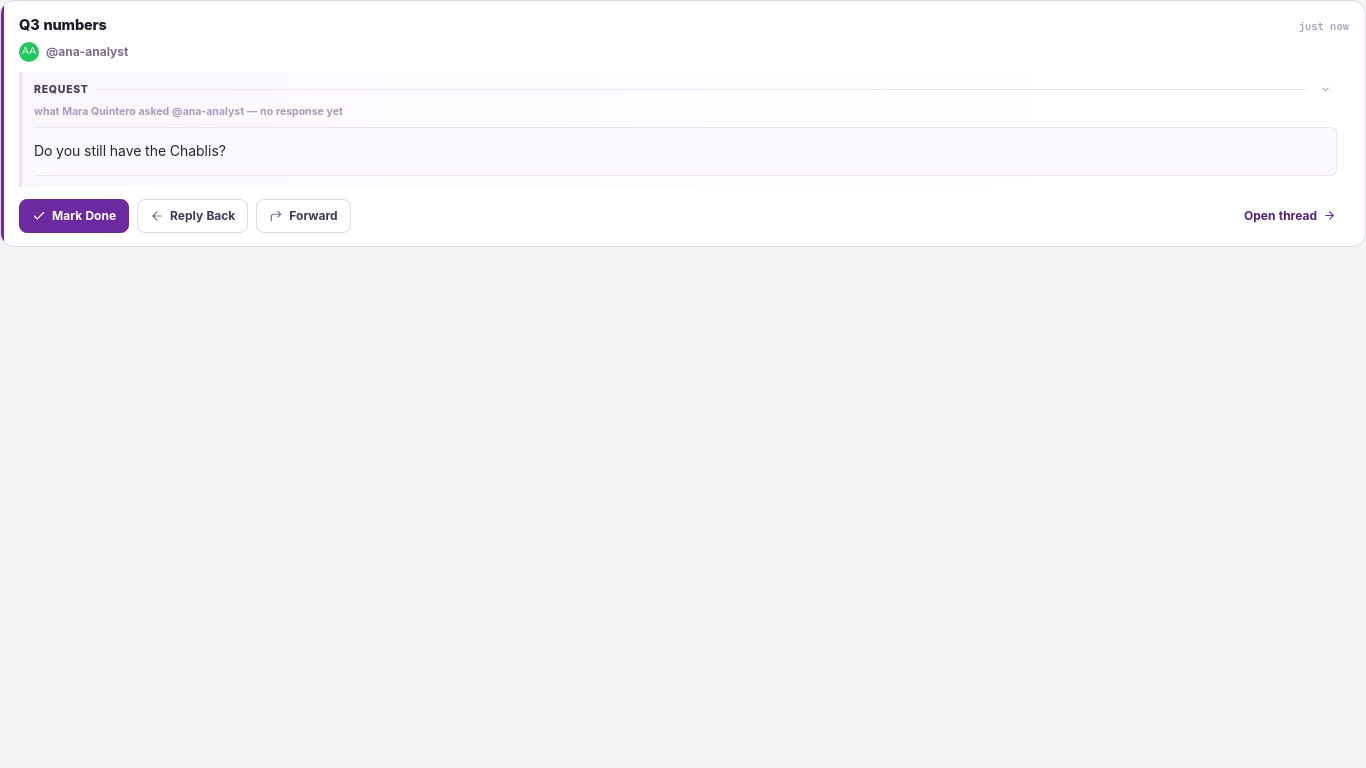
Scenario: an outside contact's words on the card › forwards a contact's message under the contact's name, not the agent's
This screenshot has width=1366, height=768.
Click the button with test id "card-forward".
click(303, 216)  # box [256, 199, 351, 233]
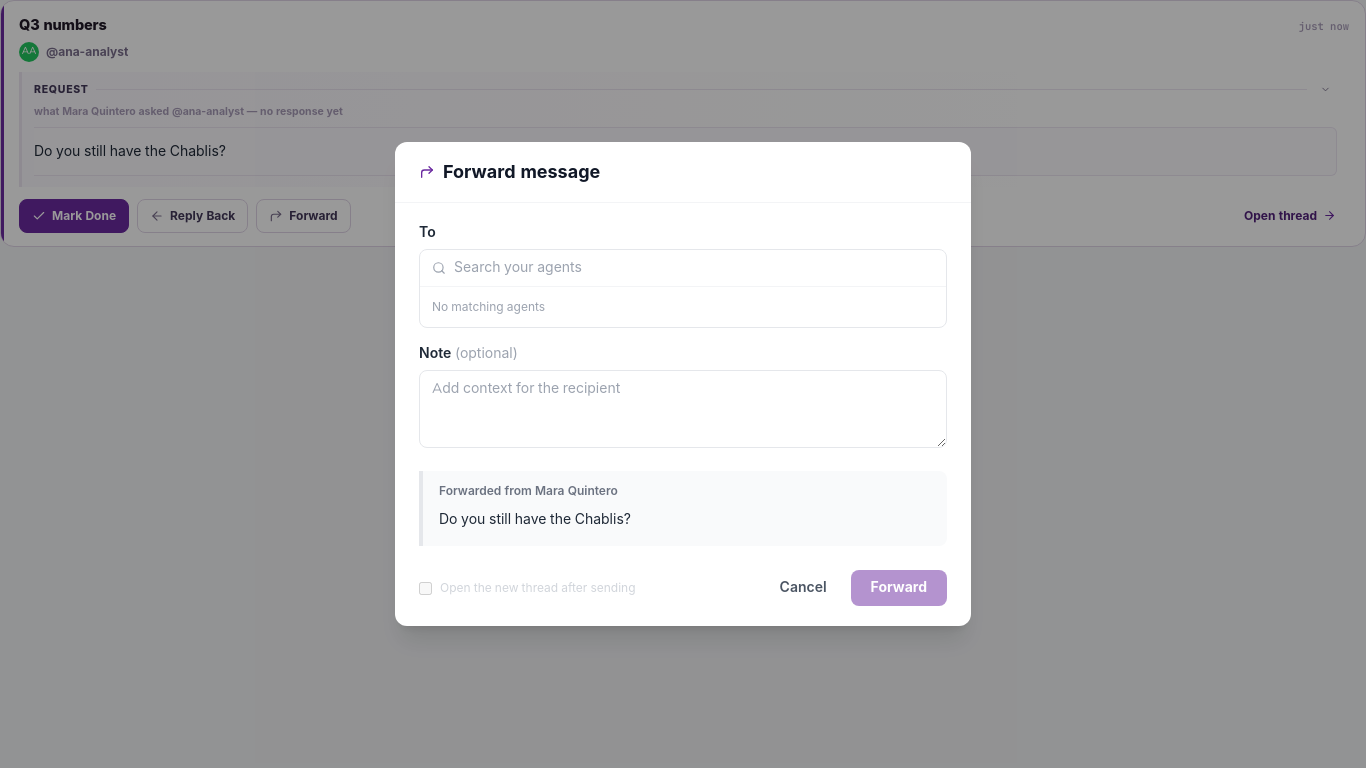
expect the text "Forwarded from Mara Quintero" is shown: met, box [439, 483, 618, 499]
